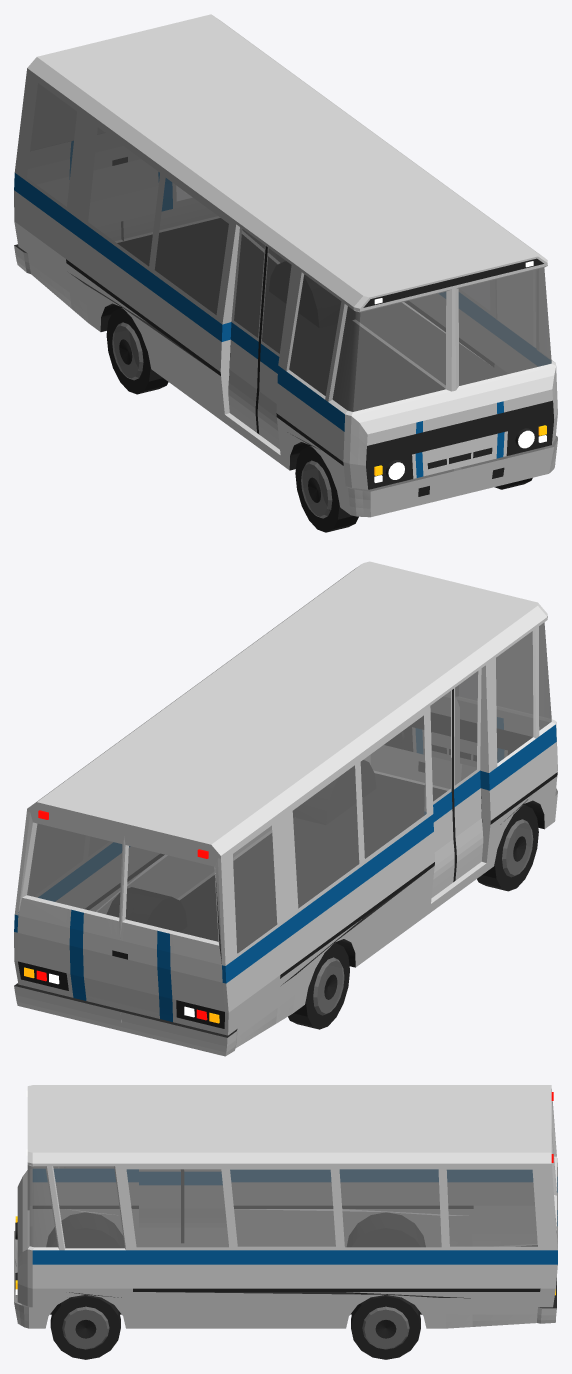
The model's file is lp_bus.glb.
3 renders of one model, top to bottom at view 1: azimuth 30°, elevation 25°; view 2: azimuth 150°, elevation 25°; view 3: azimuth 270°, elevation 25°, orthographic. The views are drawn at different scales.
Visible parts, largest first — view 1: bus; view 2: bus; view 3: bus.
Part boxes in pixels (x1,y1,x2,y2): bus: (14, 14, 557, 532); bus: (14, 561, 557, 1056); bus: (14, 1085, 557, 1359).
Bounding box in the file's own units: 2.34 × 2.66 × 6.46.
